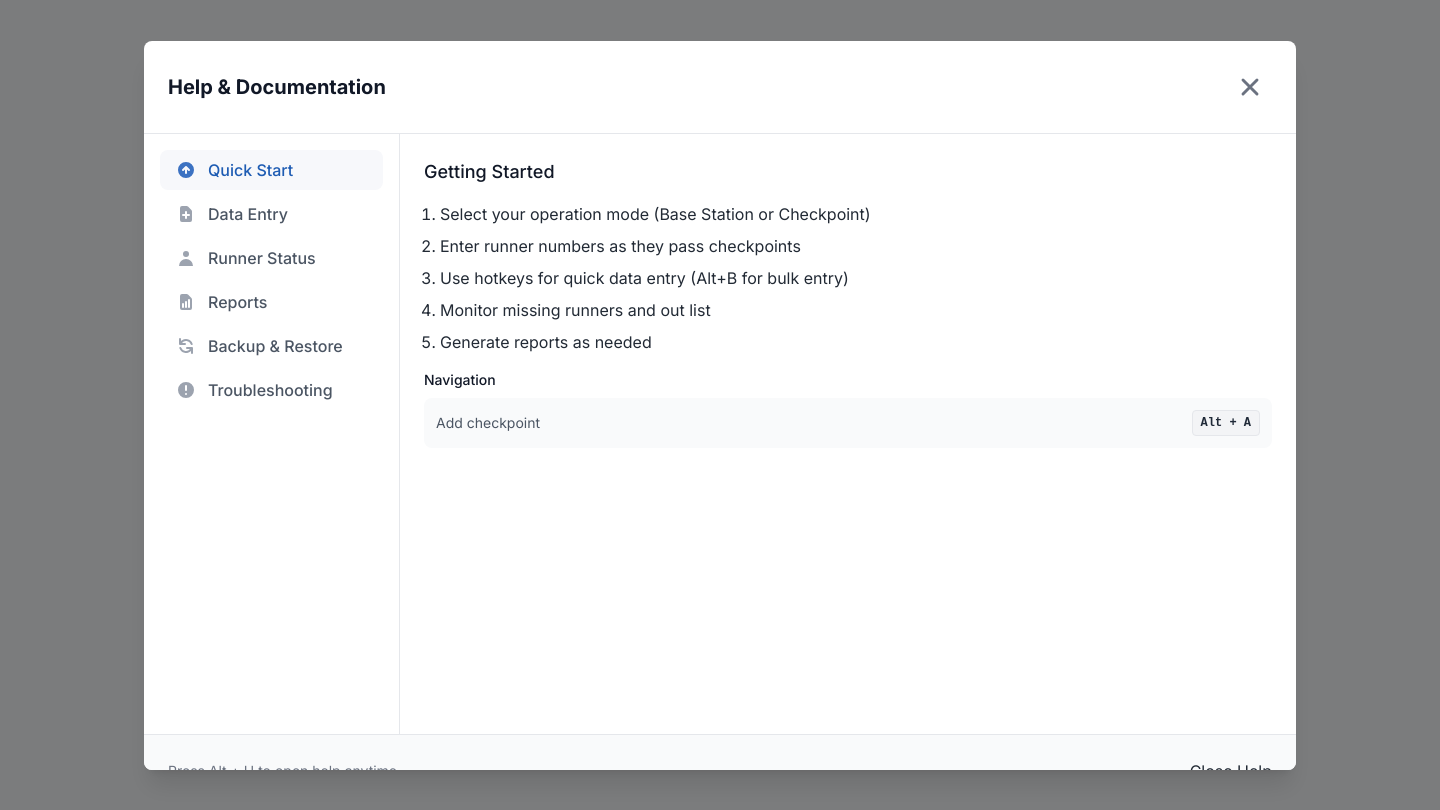
Test: HelpDialog › groups hotkeys by category
expect the text "Navigation" shows "Add checkpoint": met, box [436,414,540,430]
Note: Data Entry category - navigate to Data Entry section first
Step 1. Click the button "Data Entry" → (272, 214), box [160,194,383,234]
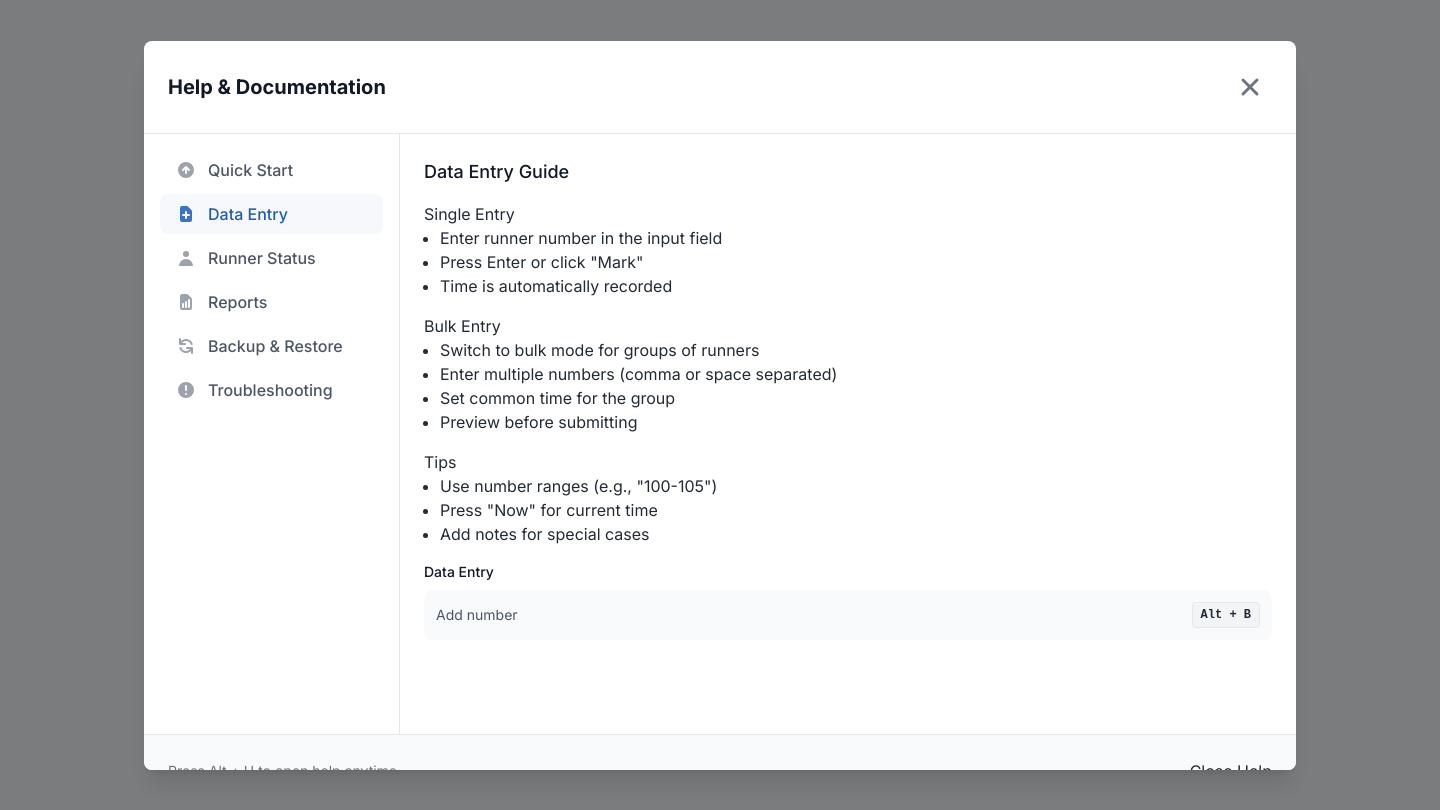
expect the text "Navigation" shows "Add number": met, box [436,606,518,622]
